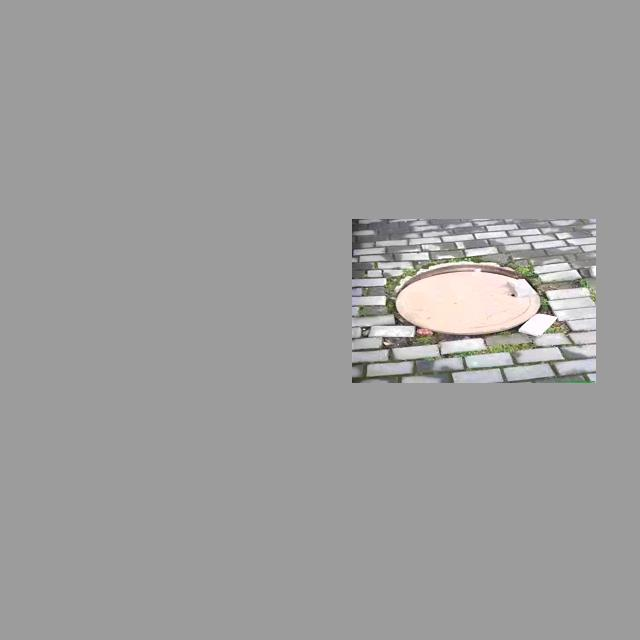uncovered: (394, 261, 541, 335)
